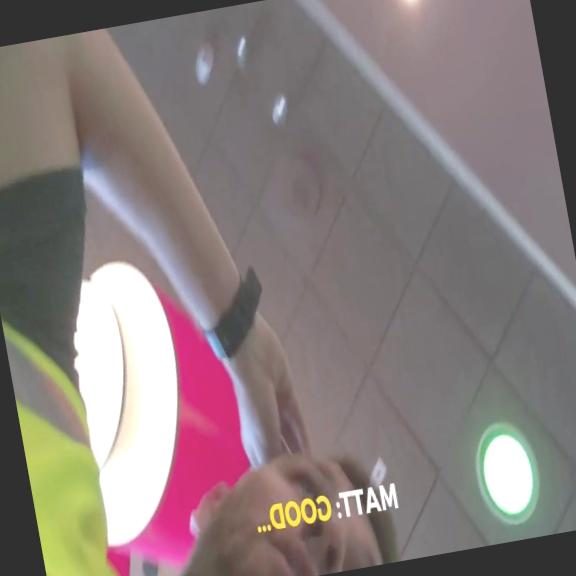safety_vest: (0, 300, 127, 576)
